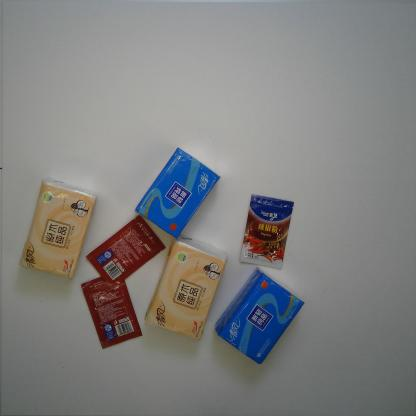Seasoner: (84, 215, 167, 289), (81, 268, 144, 350), (237, 193, 296, 271)
Tissue: (214, 265, 306, 366), (144, 235, 230, 342), (14, 176, 98, 280), (132, 146, 221, 240)
